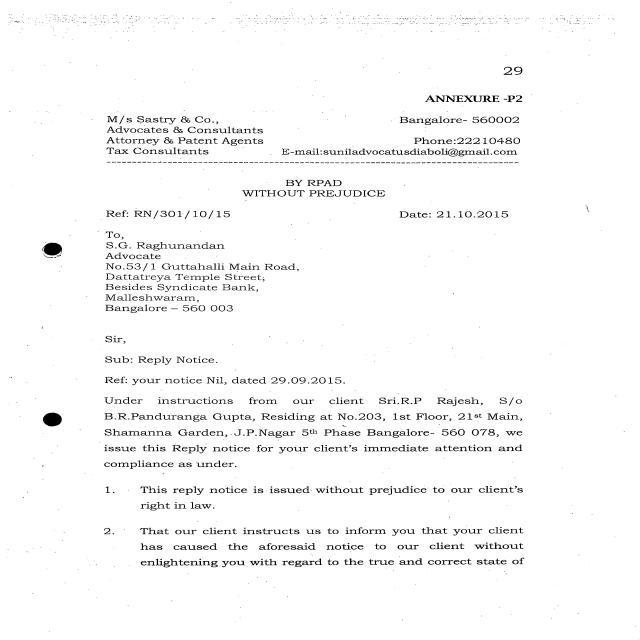page-number: (392, 28, 640, 90)
